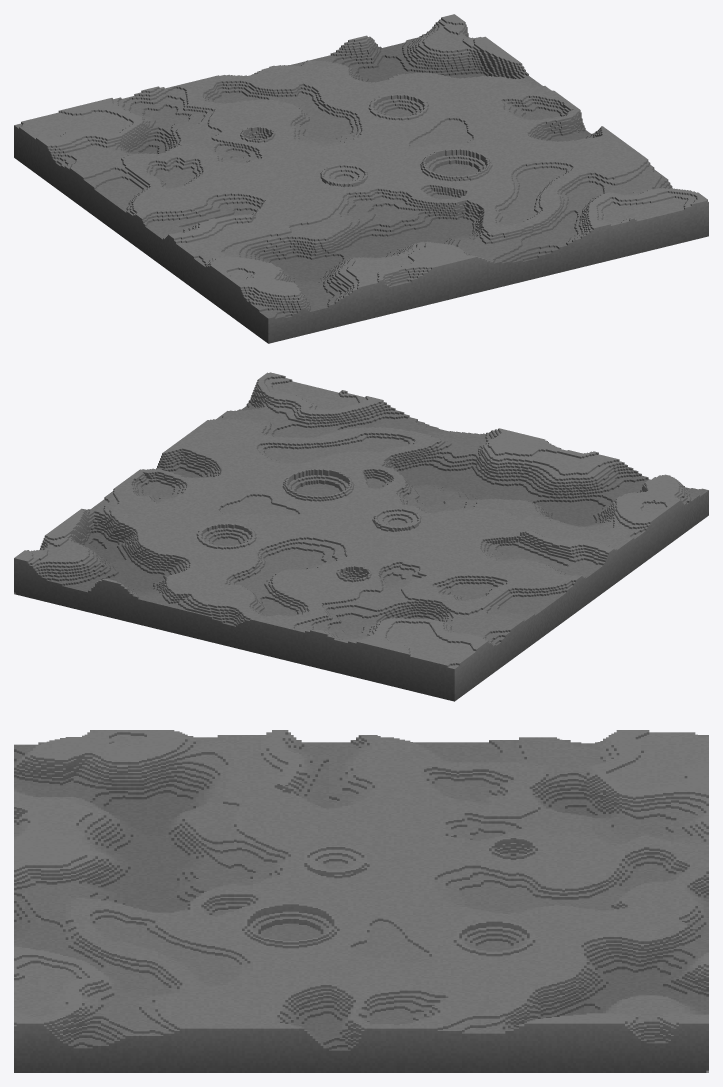
File: Luna.obj
3 views of the same model, one above another, from view 1: azimuth 30°, elevation 25°; view 2: azimuth 150°, elevation 25°; view 3: azimuth 270°, elevation 25° (orthographic). The views are drawn at different scales.
Bounding box in the file's own units: 25.6 × 2 × 25.6.
Materials: 1 (1 with a texture image).
